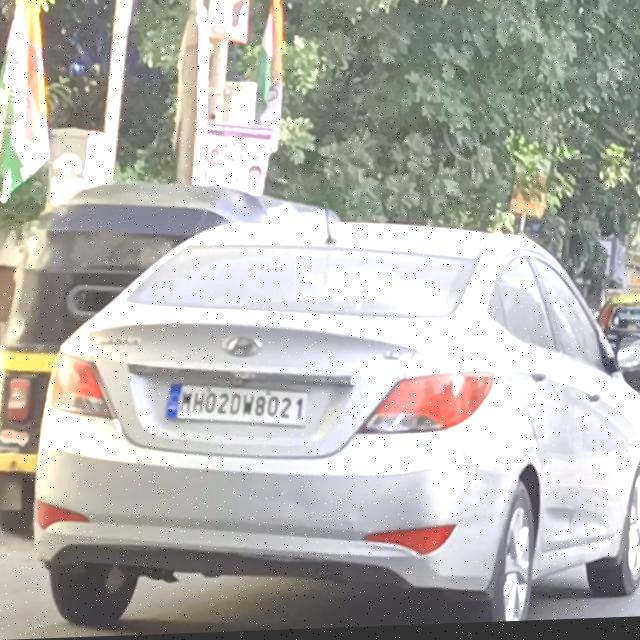plate: (164, 380, 308, 434)
